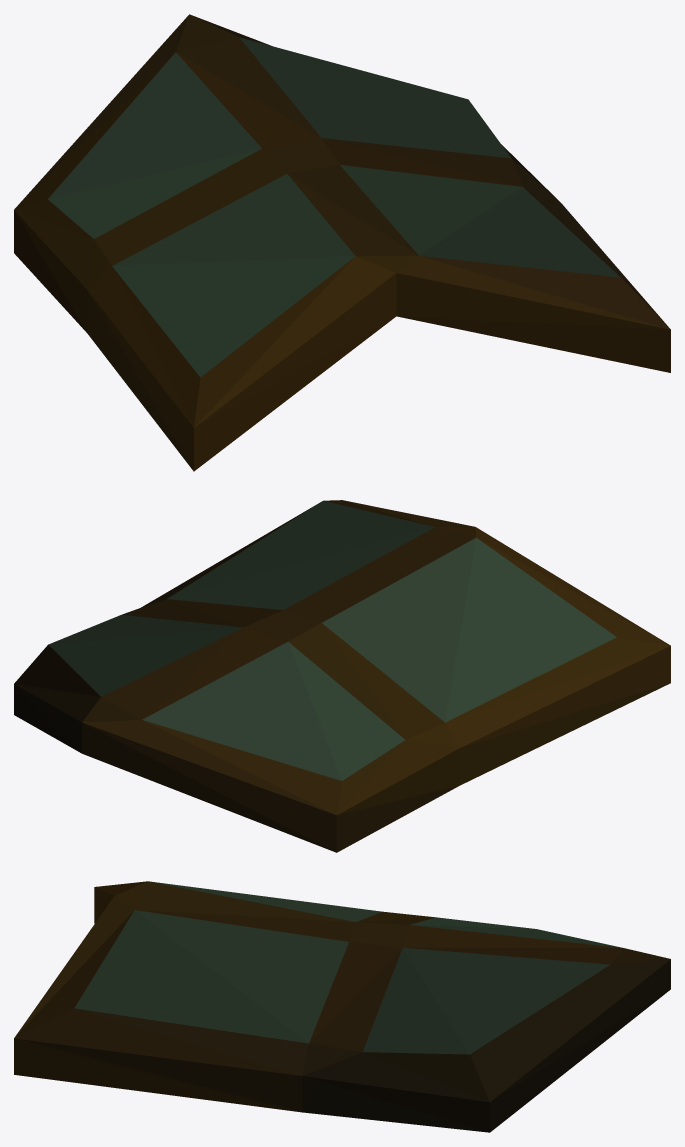
The model's file is adamant-kiteshield.obj.
3 views of the same model, one above another, from view 1: azimuth 30°, elevation 25°; view 2: azimuth 150°, elevation 25°; view 3: azimuth 270°, elevation 25° (orthographic). The views are drawn at different scales.
Parts seen in each view (by area): view 1: Item Adamant kiteshield 2026-09-24_18-15-58; view 2: Item Adamant kiteshield 2026-09-24_18-15-58; view 3: Item Adamant kiteshield 2026-09-24_18-15-58.
Part boxes in pixels (x1,y1,x2,y2): Item Adamant kiteshield 2026-09-24_18-15-58: (14,14,670,471); Item Adamant kiteshield 2026-09-24_18-15-58: (14,500,670,852); Item Adamant kiteshield 2026-09-24_18-15-58: (14,881,670,1132).
Bounding box in the file's own units: 76 × 22 × 98.
